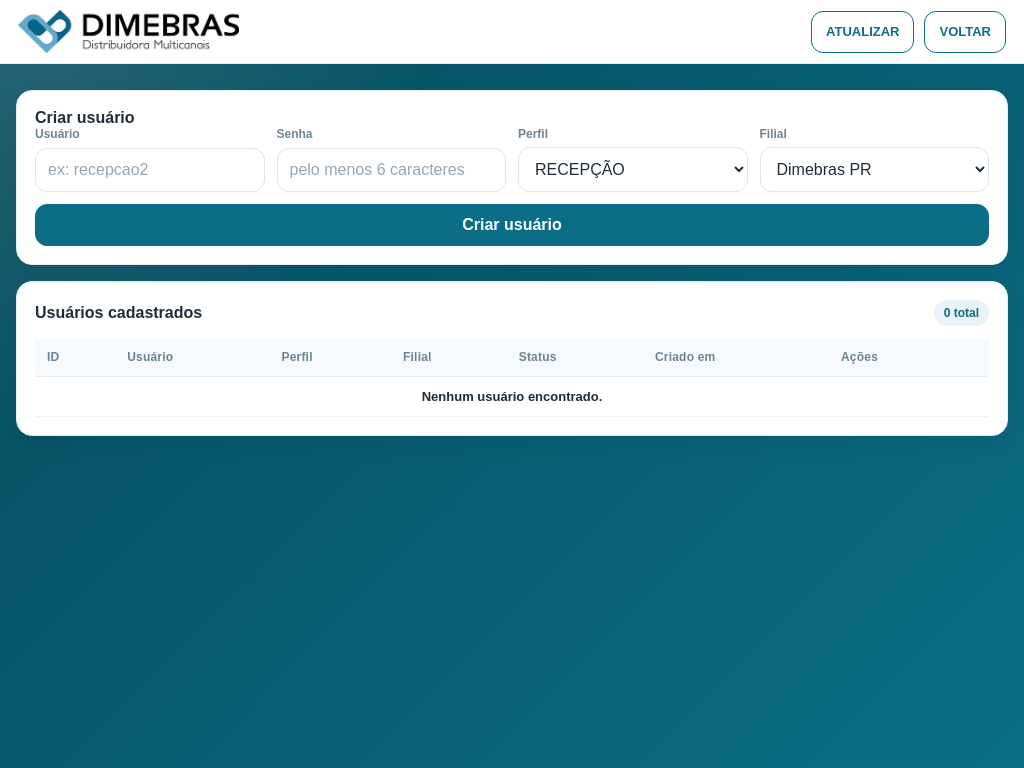
Test case: AdminUsers › shows list loading, empty state and load failure with standardized messages
The image size is (1024, 768).
Expected: the text "Nenhum usuário encontrado." is shown, [35,376,989,416]
Click the button "ATUALIZAR" at (863, 32), box [811,10,914,52]
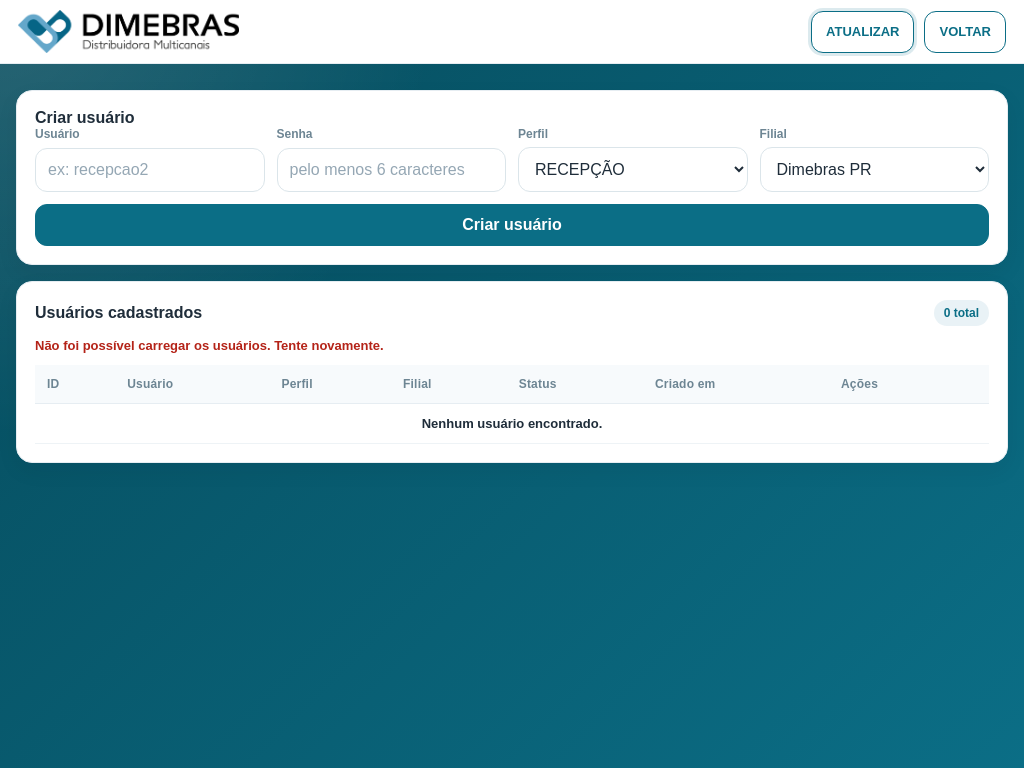
Expected: the message does not show "stack", [35,338,384,353]
Expected: the message shows "Não foi possível carregar os usuários.", [35,338,384,353]
Expected: the message shows "Tente novamente.", [35,338,384,353]
